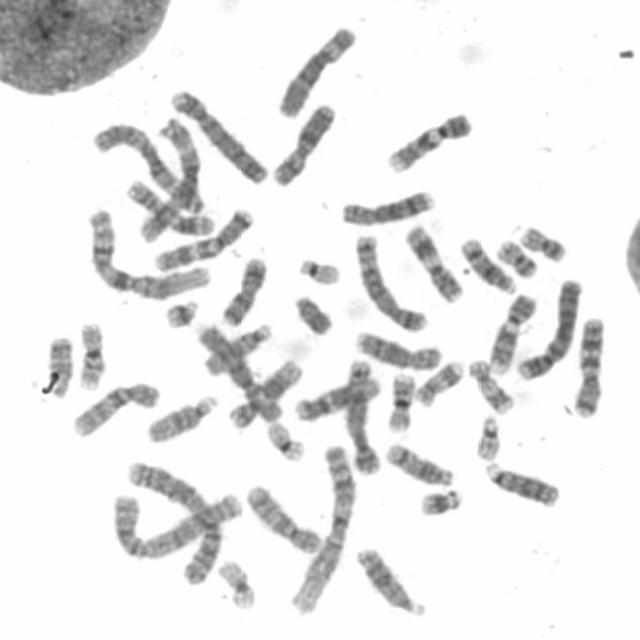A1: (282, 437, 358, 617), (81, 201, 216, 301)
A2: (119, 452, 226, 586), (106, 477, 242, 566)
A3: (85, 114, 208, 214), (132, 110, 202, 244)
B4: (162, 81, 270, 186), (510, 271, 584, 381)
B5: (348, 225, 431, 334), (338, 351, 383, 476)
C10: (239, 476, 325, 555), (65, 374, 162, 439)
C11: (120, 173, 216, 238), (399, 217, 466, 305)
C12: (222, 351, 306, 429), (288, 370, 384, 424)
C6: (190, 316, 284, 424), (270, 18, 358, 119)
C7: (148, 200, 256, 273), (566, 309, 608, 420)
C8: (334, 182, 438, 228), (348, 323, 444, 371)
C9: (380, 105, 475, 174), (483, 287, 540, 376)
D13: (350, 539, 430, 618), (479, 454, 562, 509)
D14: (454, 229, 520, 296), (378, 435, 456, 488)
D15: (197, 315, 274, 377), (140, 387, 221, 445)
E16: (71, 314, 108, 391), (380, 365, 418, 433)
E17: (461, 352, 516, 415), (408, 352, 466, 408)
E18: (218, 257, 272, 326), (39, 328, 75, 400)
F19: (212, 552, 258, 611), (260, 413, 308, 463)
F20: (514, 217, 569, 264), (490, 231, 540, 280)
G21: (412, 481, 465, 518), (157, 292, 201, 330)
G22: (292, 250, 343, 286), (469, 407, 503, 461)
X: (266, 96, 338, 188)
Y: (288, 287, 335, 337)
